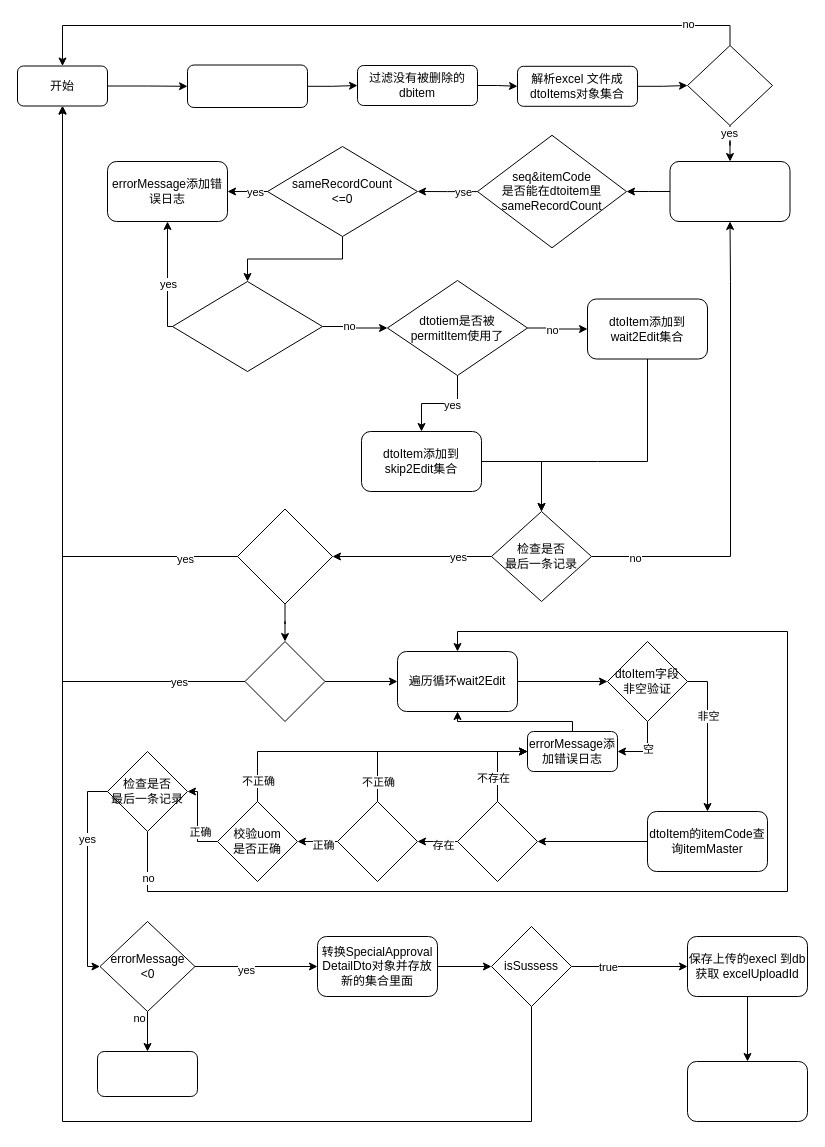
Some shapes in this 825 by 1147 pixel diagram are drawn without their labels. The shapes that lost their labels are listed below. From the top down, each one's box as (x1, y1, x2, y2) in pixels, then its label:
(186, 64, 308, 108): 查询specAppl记录
(686, 44, 772, 126): dbItem和 dtoItem数量是否一样
(669, 160, 790, 222): 遍历dbItem集合
(172, 280, 322, 372): sameRecordCount >1
(236, 508, 332, 604): errorMessage >0
(244, 640, 325, 722): wait2Edit<=0
(336, 800, 418, 882): 校验coo信息是否正确
(456, 800, 538, 882): 校验itemMaster是否存在
(96, 1050, 198, 1096): isSussess=false
(686, 1060, 808, 1122): end
